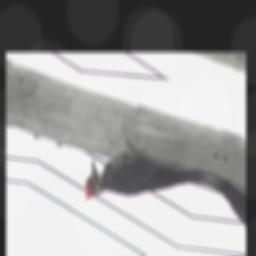Woodpecker: (73, 130, 215, 234)
